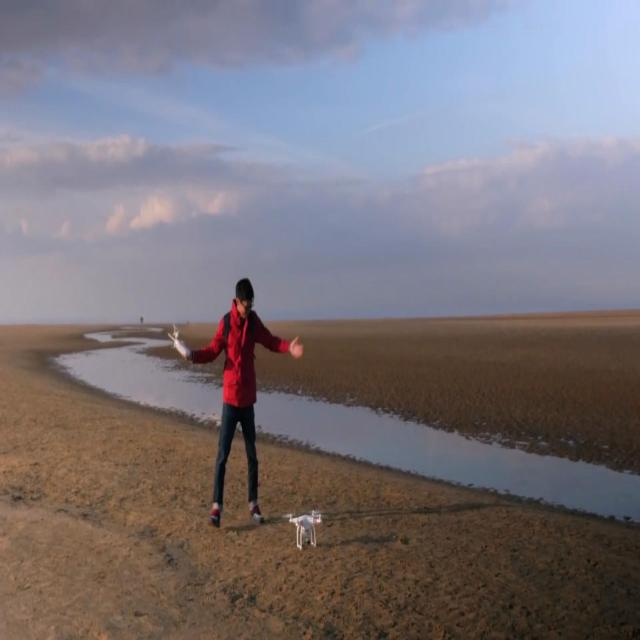drone: (280, 502, 326, 548)
